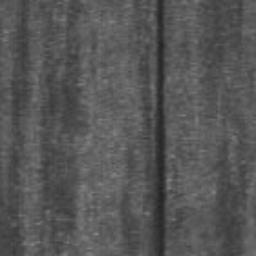Scratches: (152, 0, 166, 256)
